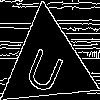U: (22, 38, 70, 96)
